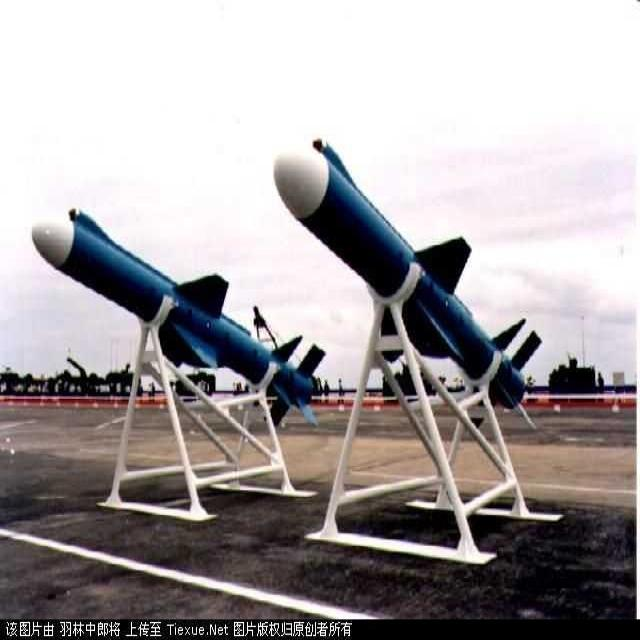missile: (274, 137, 539, 419), (26, 205, 322, 434)
